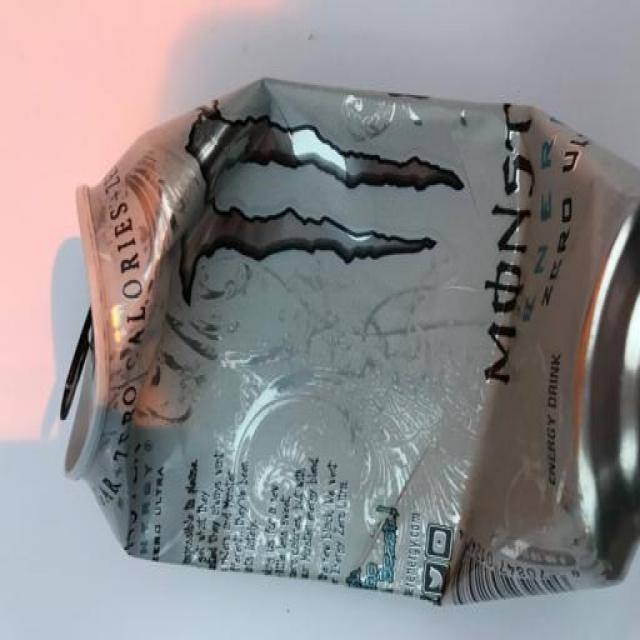metel: (106, 110, 612, 585)
